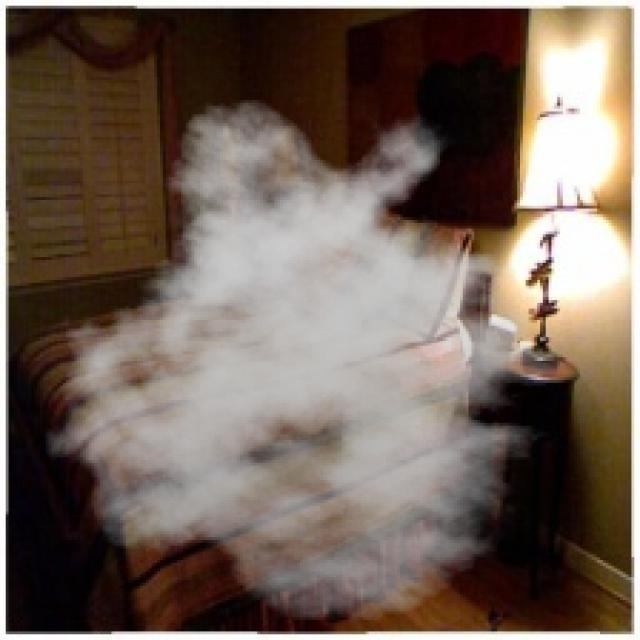Smoke: (32, 97, 594, 623)
